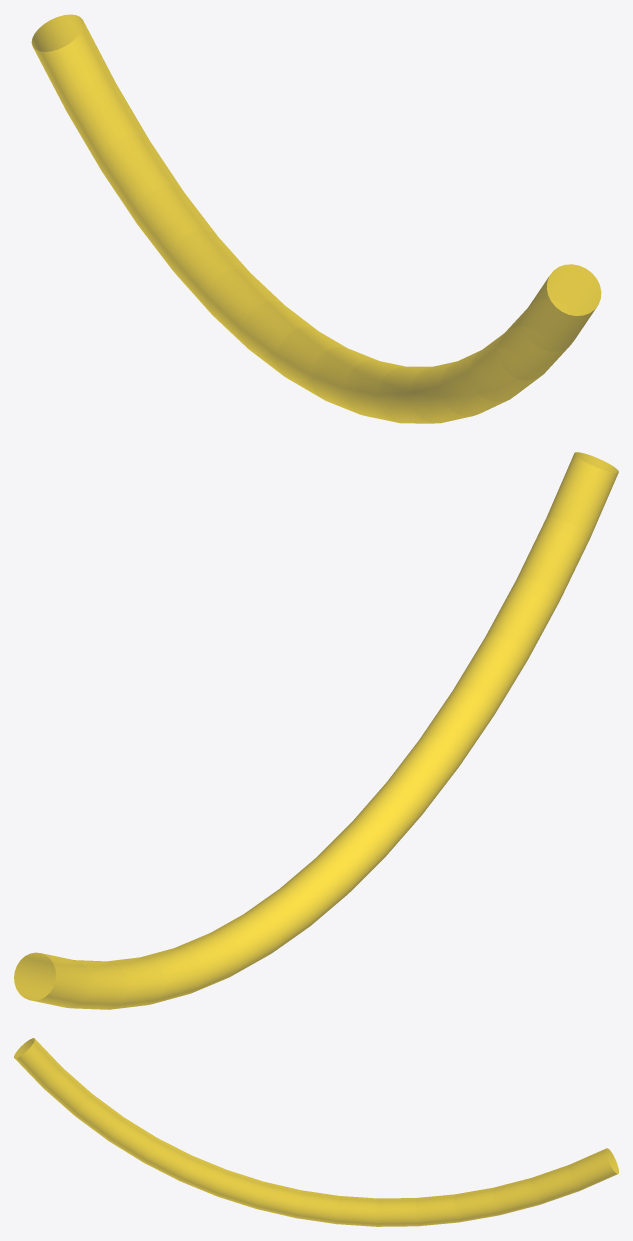
The model's file is Event_100608114_track_80.fbx.
The picture shows the model from 3 angles, top to bottom: view 1: azimuth 30°, elevation 25°; view 2: azimuth 150°, elevation 25°; view 3: azimuth 270°, elevation 25°; orthographic projection. The views are drawn at different scales.
Visible parts, largest first — view 1: Model; view 2: Model; view 3: Model.
Boxes of the visible parts, x1=… form: Model: x1=31, y1=14, x2=601, y2=423; Model: x1=14, y1=452, x2=618, y2=1009; Model: x1=14, y1=1038, x2=618, y2=1226.
Bounding box in the file's own units: 0.098 × 0.271 × 0.8496.
